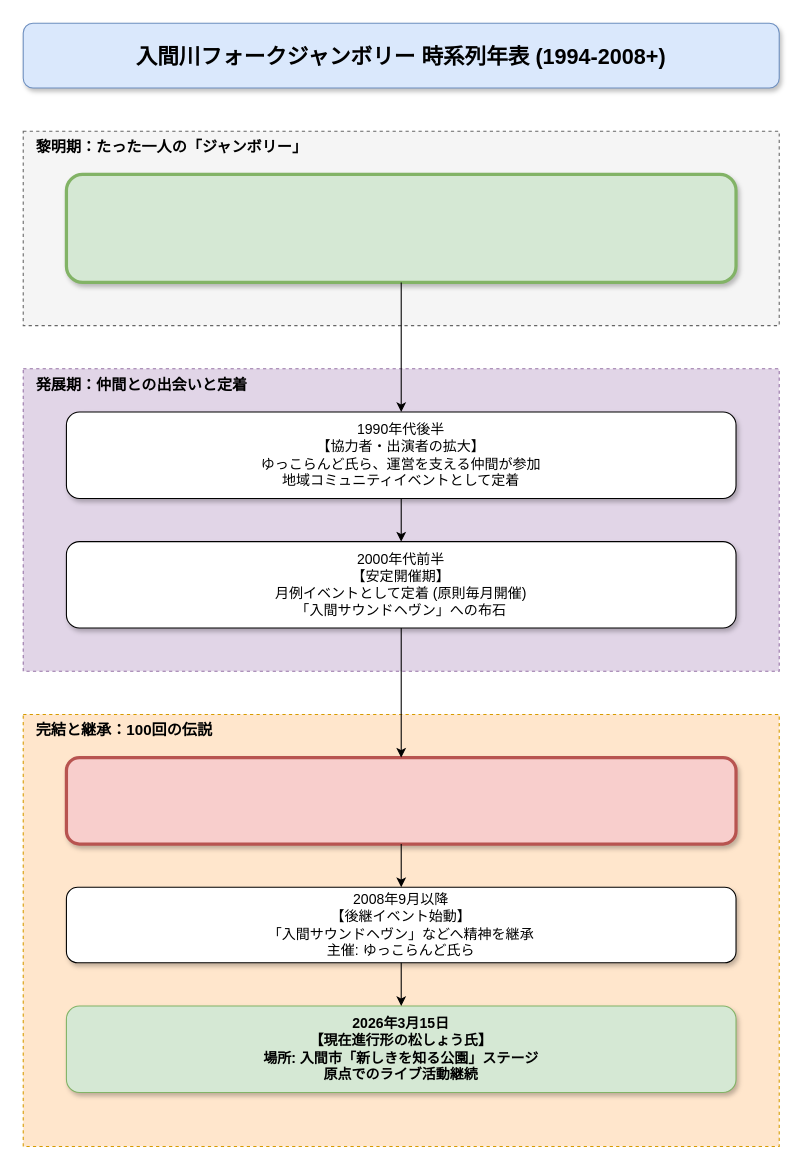
This 805x1165 diagram has some shape labels left out. The shapes that lost their labels are listed below. From the top down, each one's centre as x and y in pixels, then its label:
At (402,229): "1994年2月 【第1回開催】 場所: 入間市駅「新しきを知る公園」野外ステージ 人物: 松しょう (単独) エピソード: 観客ゼロからのスタート".
At (402,802): "2008年8月 【第100回 入間川フォークジャンボリー (最終回)】 14年間の歴史に幕を下ろす 「100回」という区切りでの完結".
